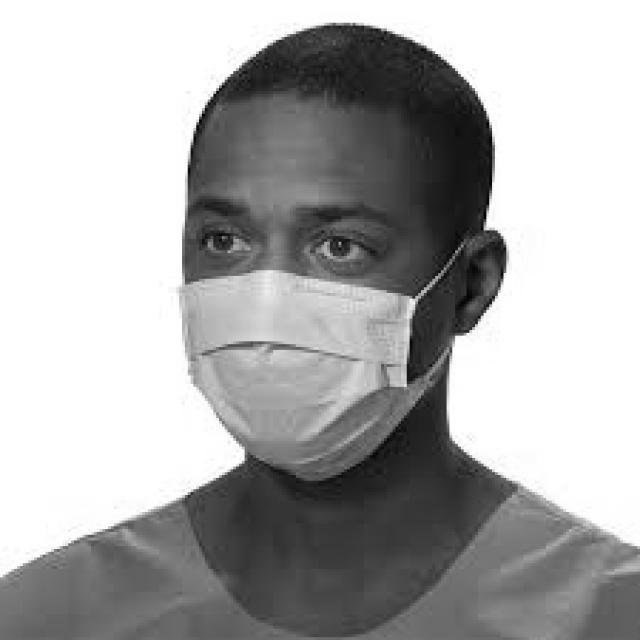fake: (172, 267, 442, 490)
real: (179, 98, 457, 489)
